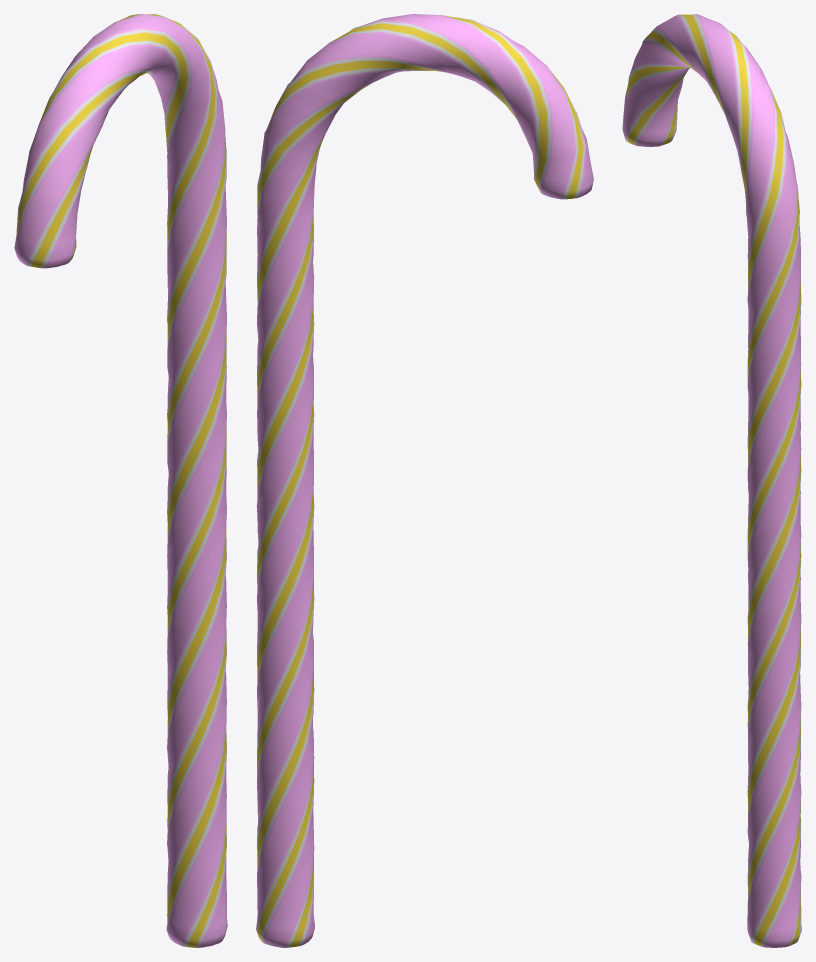
File: Polkagris_1.glb
3 renders of one model, left to right at view 1: azimuth 30°, elevation 25°; view 2: azimuth 150°, elevation 25°; view 3: azimuth 270°, elevation 25°, orthographic. The views are drawn at different scales.
Visible parts, largest first — view 1: Polkagrisar.001; view 2: Polkagrisar.001; view 3: Polkagrisar.001.
Part boxes in pixels (x1,y1,x2,y2): Polkagrisar.001: (14,14,227,947); Polkagrisar.001: (256,14,593,947); Polkagrisar.001: (622,14,801,947).
Size of the model in its own units: 0.7367 by 2.48 by 0.4654.
